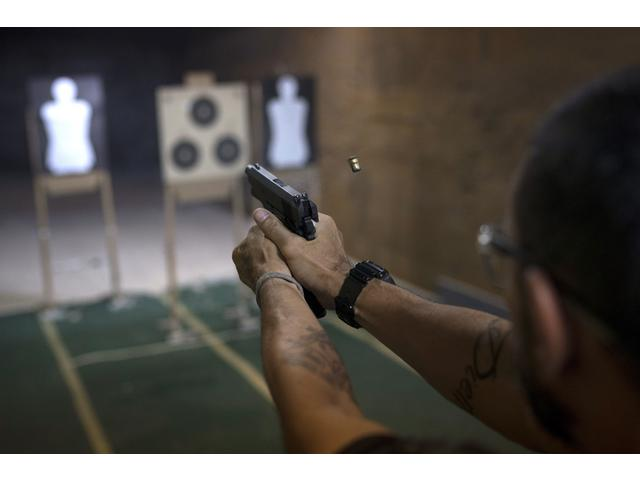pistol: (240, 158, 327, 322)
